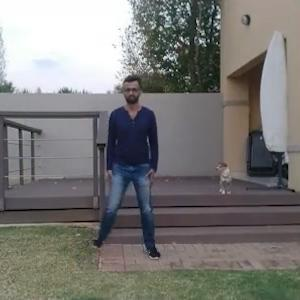follow: (103, 71, 160, 259)
